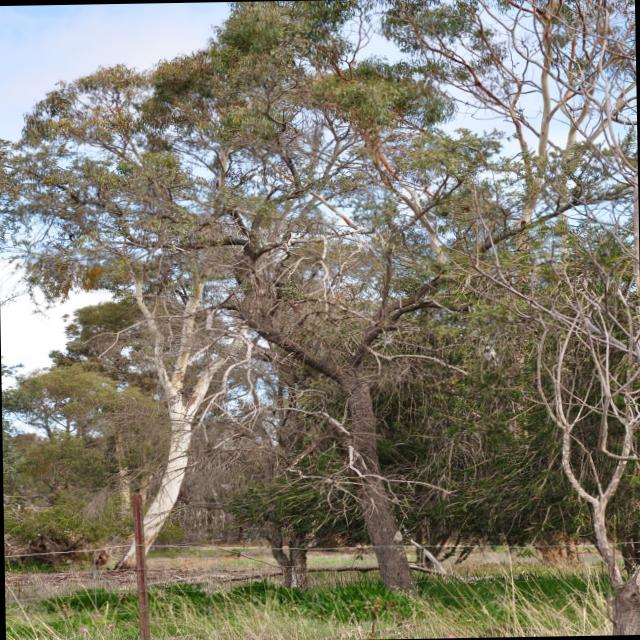Medicinal-Sandalwood: (15, 4, 640, 561)
